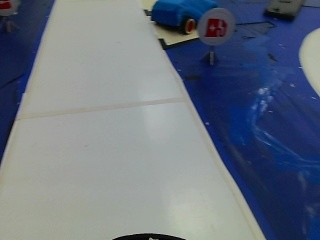battery: (201, 14, 229, 44)
